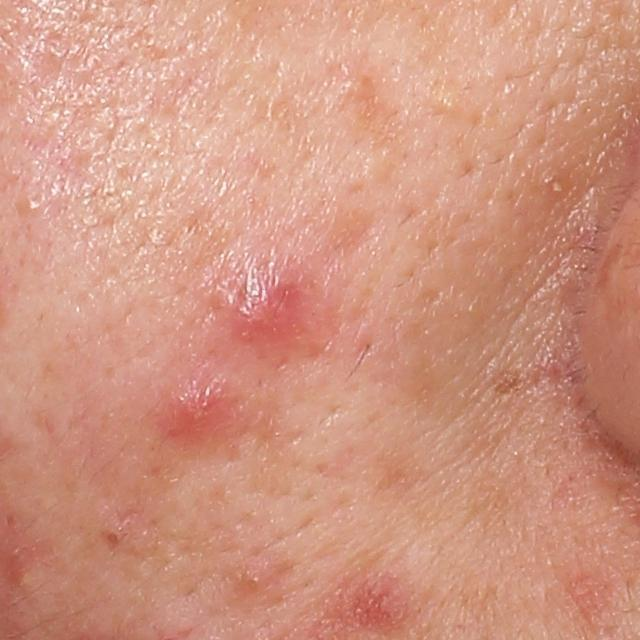comedo: (18, 200, 47, 221)
papule: (208, 262, 305, 356), (165, 382, 235, 444)
